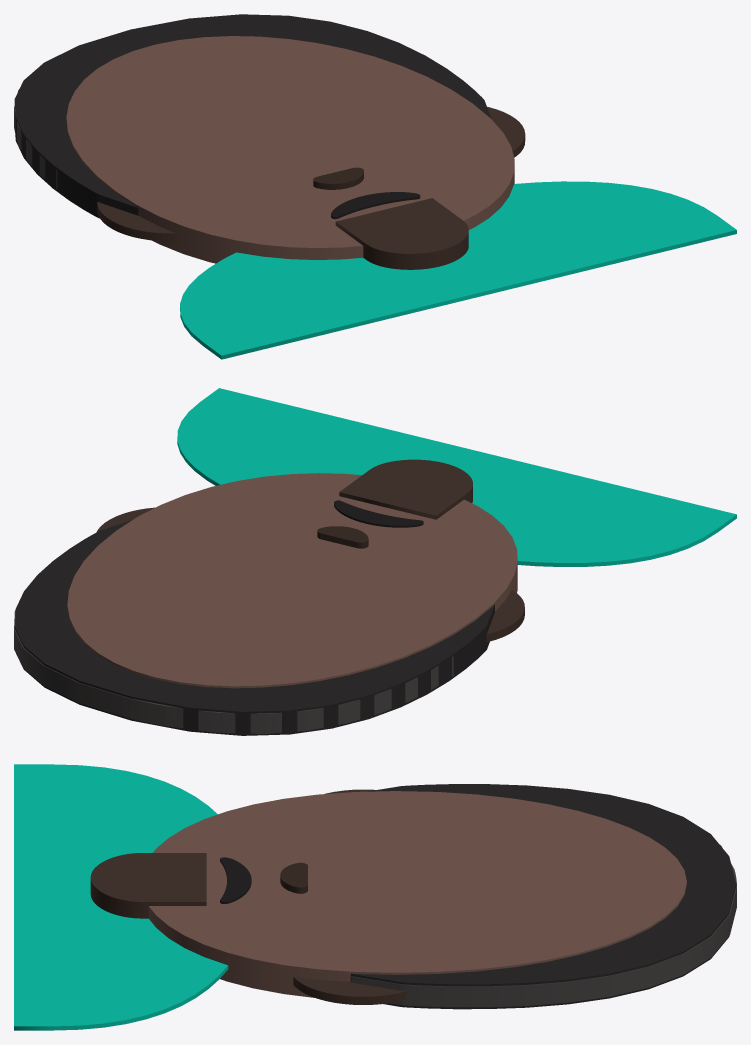
Rendered from emoji_u1f64d_1f3ff_200d_2642.glb.
3 views of the same model, one above another, from view 1: azimuth 30°, elevation 25°; view 2: azimuth 150°, elevation 25°; view 3: azimuth 270°, elevation 25° (orthographic). The views are drawn at different scales.
Parts seen in each view (by area): view 1: emoji_u1f64d_1f3ff_200d_2642; view 2: emoji_u1f64d_1f3ff_200d_2642; view 3: emoji_u1f64d_1f3ff_200d_2642.
Boxes of the visible parts, x1,y1,x2,y2 form: emoji_u1f64d_1f3ff_200d_2642: (14,14,736,359); emoji_u1f64d_1f3ff_200d_2642: (14,388,736,735); emoji_u1f64d_1f3ff_200d_2642: (14,764,736,1030).
Bounding box in the file's own units: 0.0271 × 0.002 × 0.0316.
